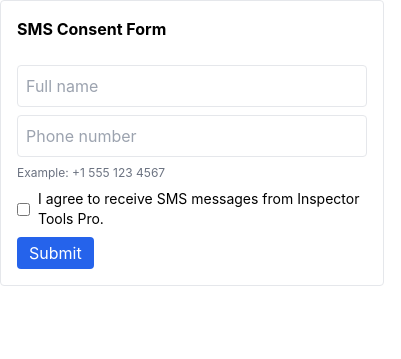
it: SMSConsentForm › requires explicit consent
This screenshot has width=401, height=359.
In the field with placeholder "Full name": [192, 86] box [17, 65, 367, 107], type "John Doe"
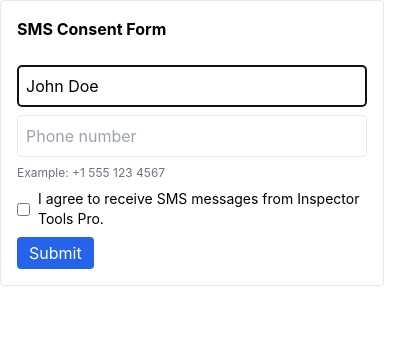
In the field with placeholder "Phone number": [192, 136] box [17, 115, 367, 157], type "+15551234567"
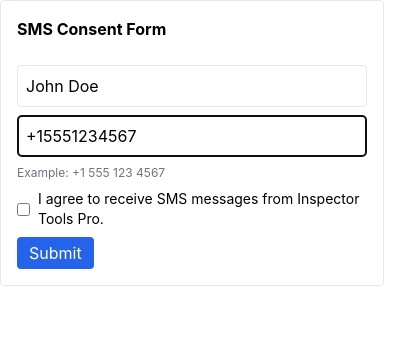
Click the button "Submit": [55, 253] box [17, 237, 94, 269]
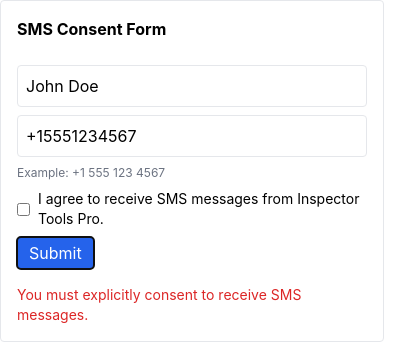
Check: the message reads "You must explicitly consent to receive SMS messages.", box [17, 286, 301, 323]
